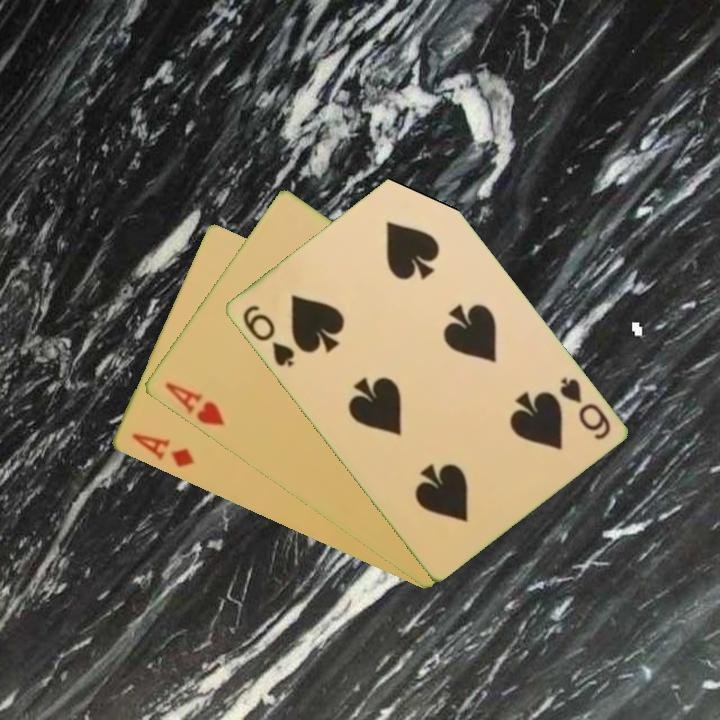6s: (238, 301, 297, 370), (555, 373, 613, 443)
Ad: (127, 429, 197, 471)
Ah: (160, 379, 227, 429)
